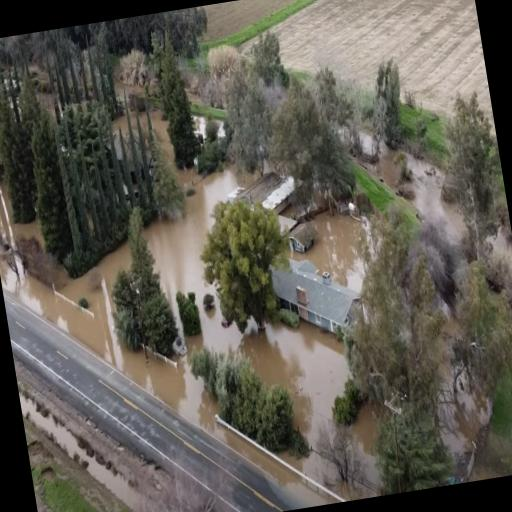flood: (0, 166, 348, 507), (287, 211, 366, 291), (408, 154, 465, 242), (281, 452, 373, 500), (149, 107, 194, 191), (0, 182, 41, 248), (114, 111, 131, 170), (128, 109, 140, 165), (138, 110, 150, 157), (190, 105, 206, 139), (186, 92, 199, 102), (218, 120, 225, 137)
house: (264, 238, 368, 350), (222, 167, 308, 227)
